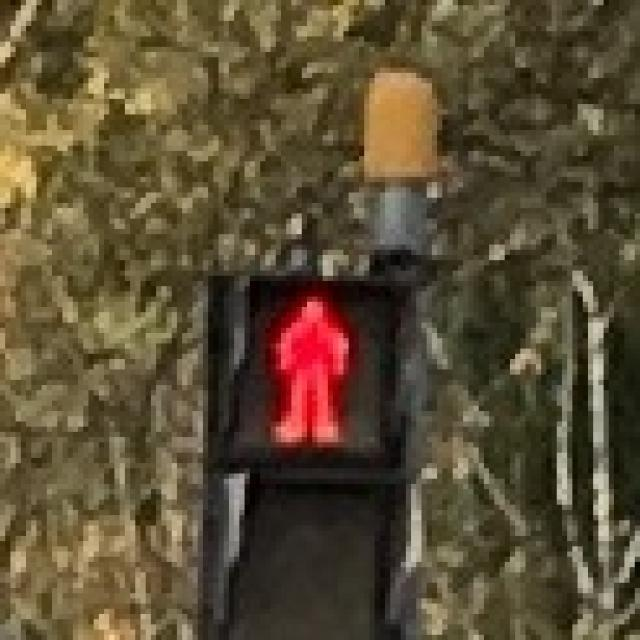red_light: (218, 265, 396, 463)
